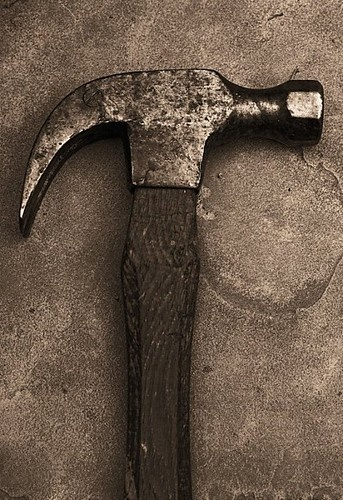hammer: (17, 67, 327, 500)
